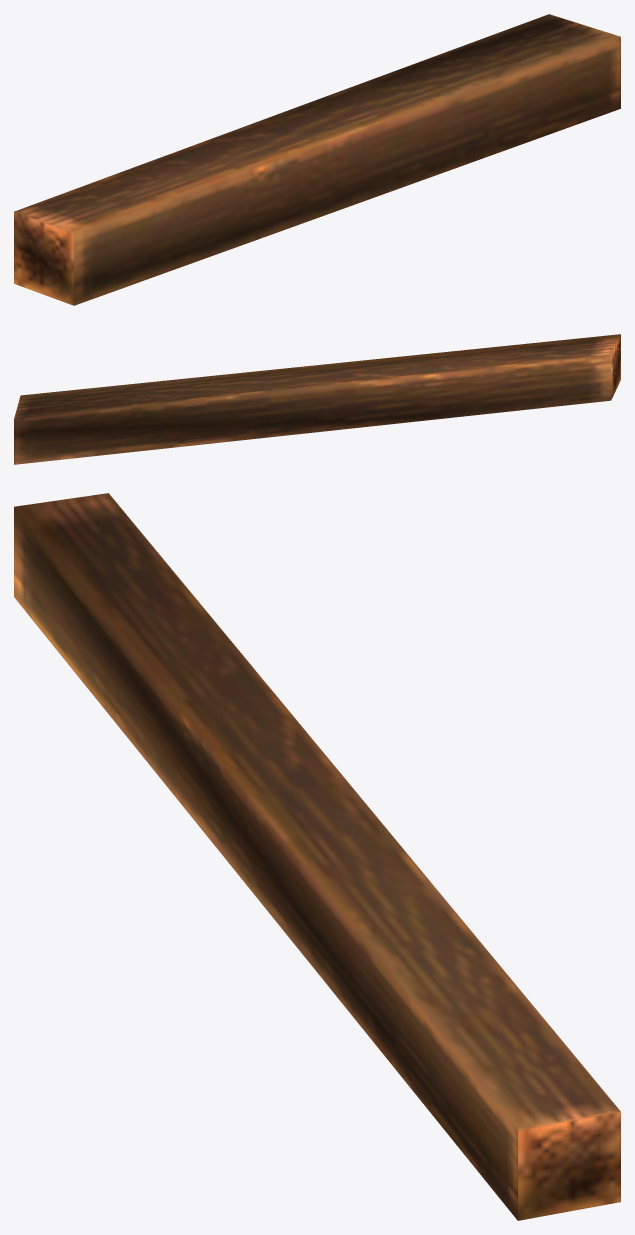
Rendered from SWORDLIGHT20_JAILBRACE50.fbx.
3 renders of one model, top to bottom at view 1: azimuth 30°, elevation 25°; view 2: azimuth 150°, elevation 25°; view 3: azimuth 270°, elevation 25°, orthographic. The views are drawn at different scales.
Visible parts, largest first — view 1: SWORDLIGHT20_JAILBRACE50; view 2: SWORDLIGHT20_JAILBRACE50; view 3: SWORDLIGHT20_JAILBRACE50.
Part boxes in pixels (bbox=[...]): SWORDLIGHT20_JAILBRACE50: bbox=[14, 14, 620, 305]; SWORDLIGHT20_JAILBRACE50: bbox=[14, 334, 620, 464]; SWORDLIGHT20_JAILBRACE50: bbox=[14, 493, 620, 1220].
Bounding box in the file's own units: 44754 × 11347 × 24350.
Materials: 1 (1 with a texture image).
